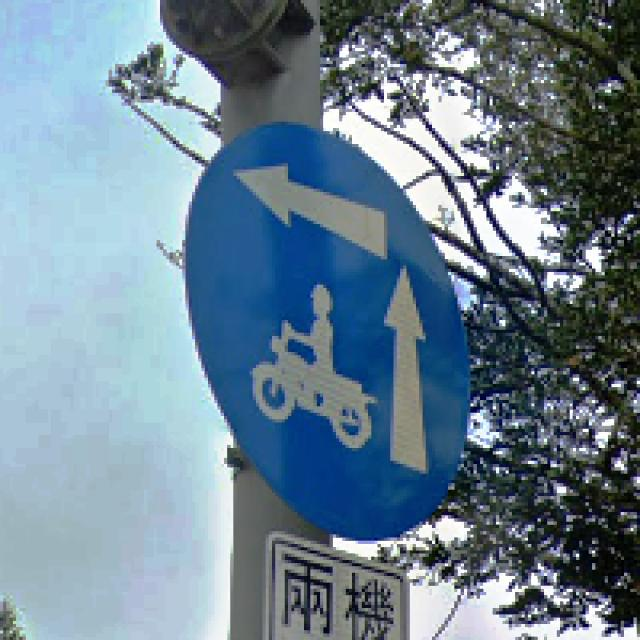twostageturn: (182, 122, 474, 544)
